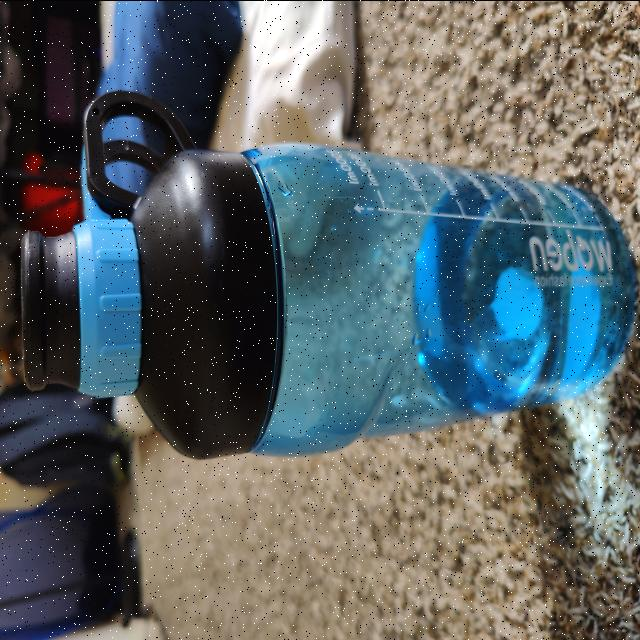bottle: (21, 98, 623, 458)
